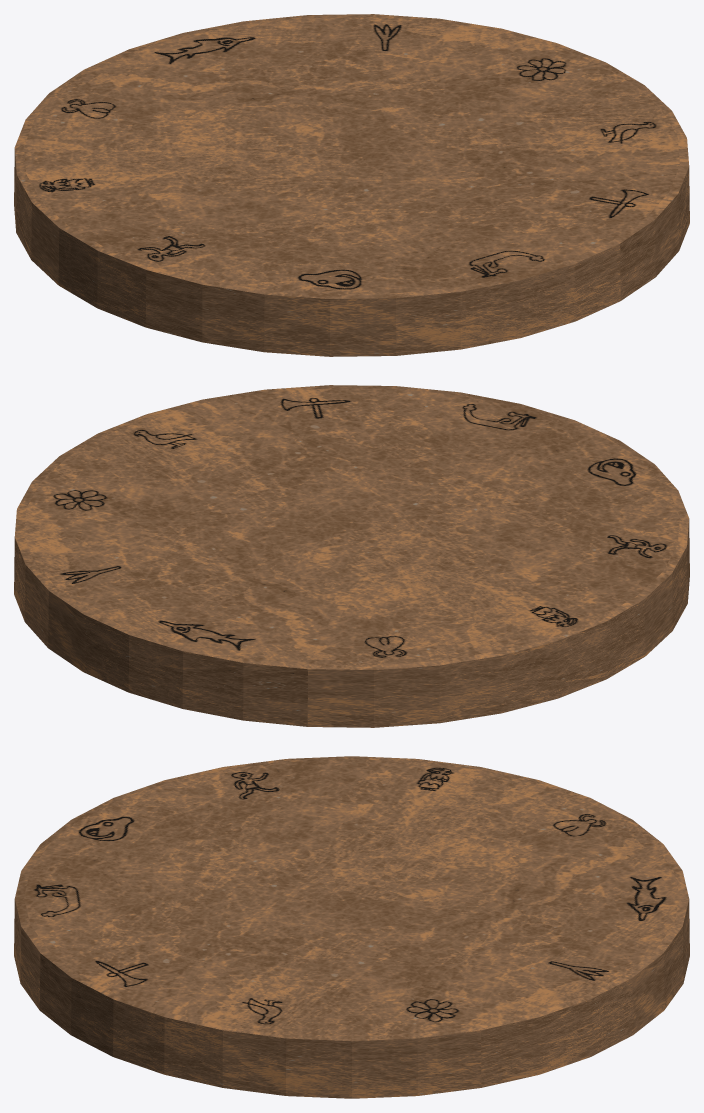
Rendered from mdl_Krank_phaistos.gltf.
3 renders of one model, top to bottom at view 1: azimuth 30°, elevation 25°; view 2: azimuth 150°, elevation 25°; view 3: azimuth 270°, elevation 25°, orthographic.
Parts seen in each view (by area): view 1: Cylinder; view 2: Cylinder; view 3: Cylinder.
Boxes of the visible parts, bbox=[...] form: Cylinder: bbox=[14, 14, 689, 356]; Cylinder: bbox=[14, 385, 689, 727]; Cylinder: bbox=[14, 756, 689, 1098].
Bounding box in the file's own units: 64.3 × 6.11 × 64.3.
Materials: 1 (1 with a texture image).
